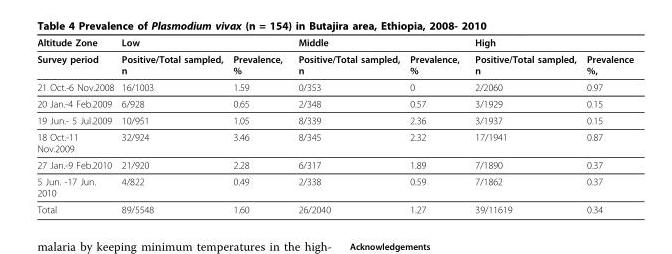table: (36, 36, 633, 214)
table column: (289, 36, 404, 214), (466, 36, 580, 214), (117, 36, 227, 214), (36, 36, 117, 214), (227, 36, 289, 214), (404, 36, 466, 214), (580, 36, 633, 214)
table column header: (36, 36, 633, 78)
table row: (36, 50, 633, 78), (36, 128, 633, 156), (36, 172, 633, 200), (36, 78, 633, 95), (36, 111, 633, 128), (36, 95, 633, 111), (36, 156, 633, 172), (36, 36, 633, 50), (36, 200, 633, 214)
table spanning cell: (36, 36, 117, 78), (289, 36, 466, 50), (117, 36, 289, 50), (466, 36, 633, 50)
